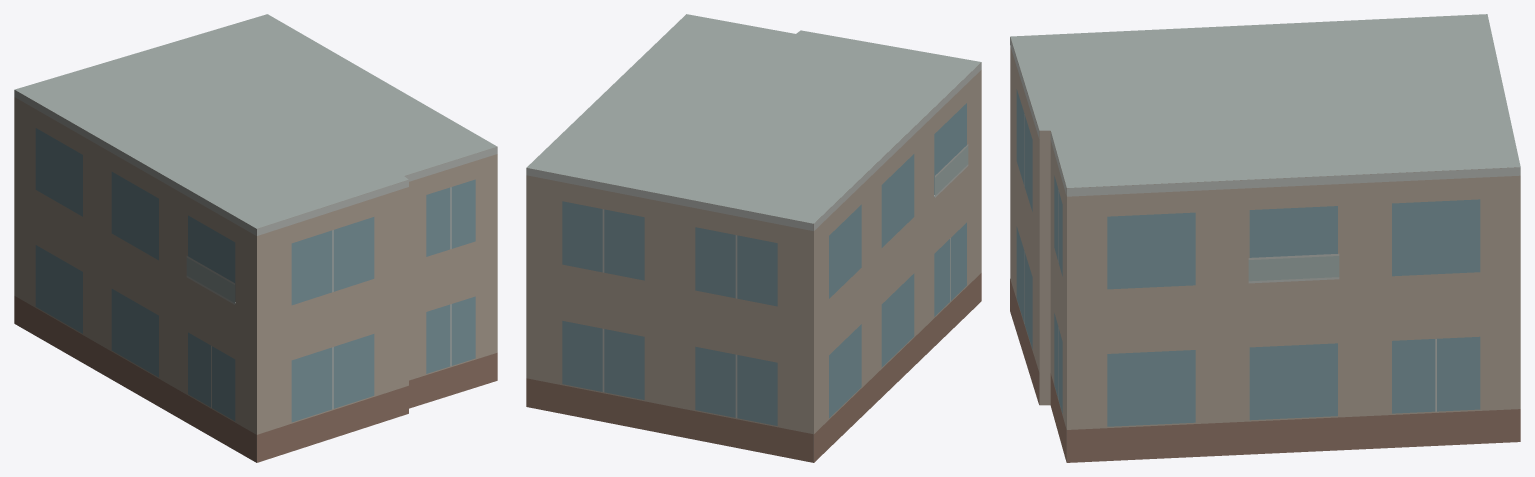
File: survey-upis-33015598.glb
The picture shows the model from 3 angles, left to right: view 1: azimuth 30°, elevation 25°; view 2: azimuth 150°, elevation 25°; view 3: azimuth 270°, elevation 25°; orthographic projection. The views are drawn at different scales.
Visible parts, largest first — view 1: survey-upis-33015598.tmp; view 2: survey-upis-33015598.tmp; view 3: survey-upis-33015598.tmp.
Boxes of the visible parts, bbox=[...] form: survey-upis-33015598.tmp: bbox=[14, 14, 497, 462]; survey-upis-33015598.tmp: bbox=[526, 14, 981, 462]; survey-upis-33015598.tmp: bbox=[1010, 14, 1520, 462].
Size of the model in its own units: 10.61 by 7.8 by 13.15.
